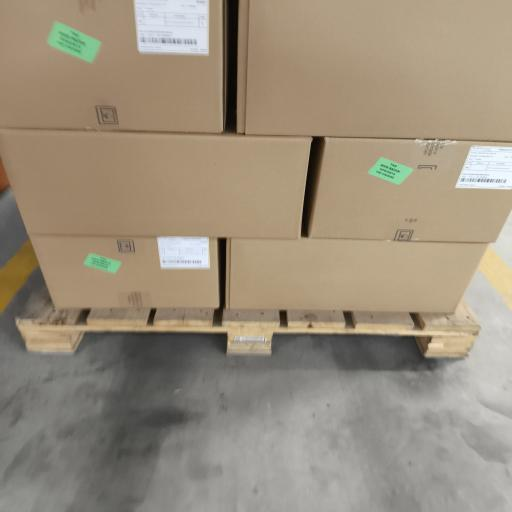pallet: (17, 297, 480, 357)
